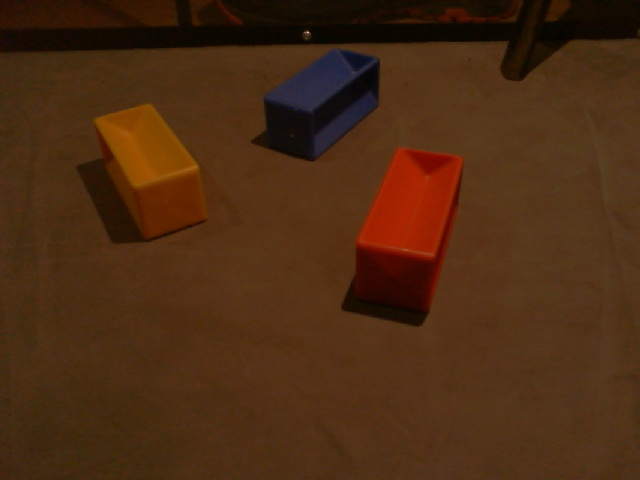BlueSample: (262, 47, 381, 161)
RedSample: (355, 148, 464, 318)
YellowSample: (92, 99, 208, 241)
